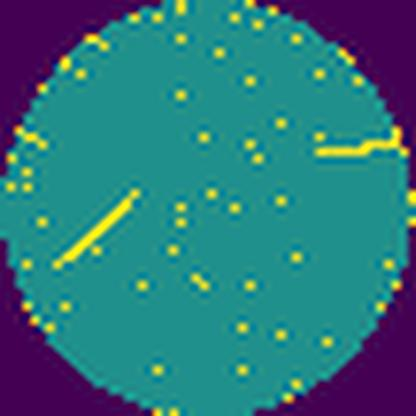Scratch: (50, 185, 147, 273), (316, 127, 404, 168)
